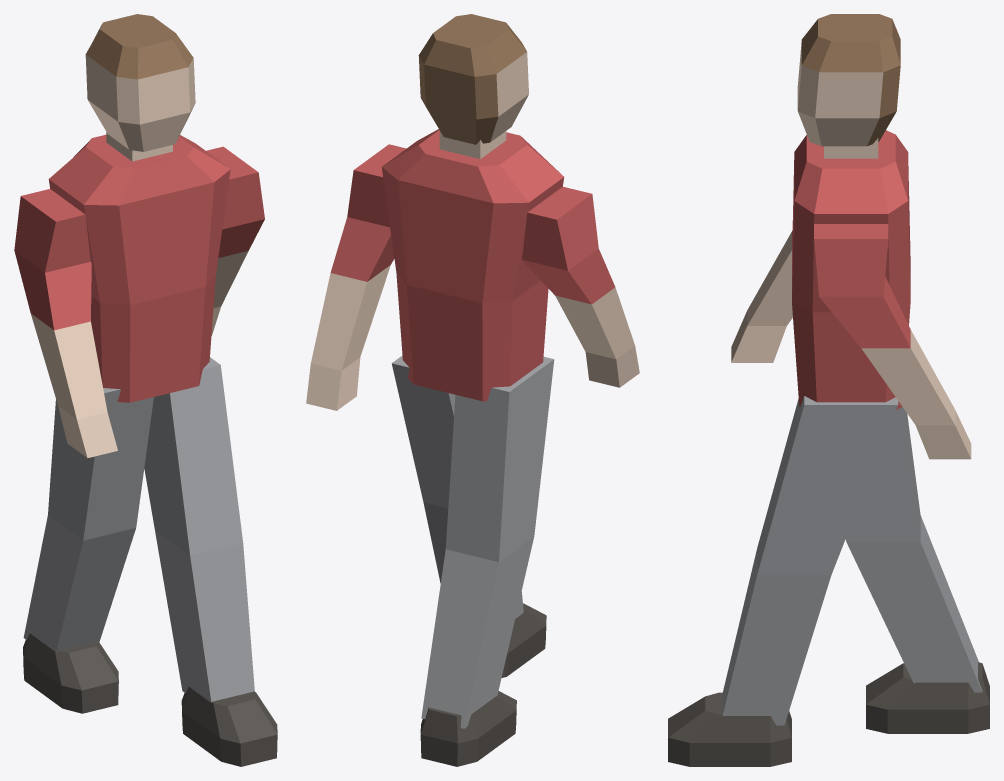
Rendered from pedestrian_3_left.fbx.
3 views of the same model, side by side, from view 1: azimuth 30°, elevation 25°; view 2: azimuth 150°, elevation 25°; view 3: azimuth 270°, elevation 25° (orthographic). The views are drawn at different scales.
Visible parts, largest first — view 1: pedestrian_3_left; view 2: pedestrian_3_left; view 3: pedestrian_3_left.
Part boxes in pixels (left/top/right/bottom): pedestrian_3_left: left=14, top=14, right=277, bottom=766; pedestrian_3_left: left=306, top=14, right=639, bottom=766; pedestrian_3_left: left=668, top=14, right=989, bottom=766.
Size of the model in its own units: 0.558 by 1.58 by 0.65.
